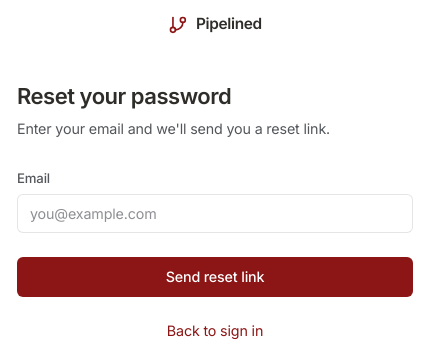
Test case: ForgotPassword › should show success message after submitting a valid email
Type "user@example.com" into the field labelled "Email".
click(215, 214); type("user@example.com")  # box [17,194,413,233]
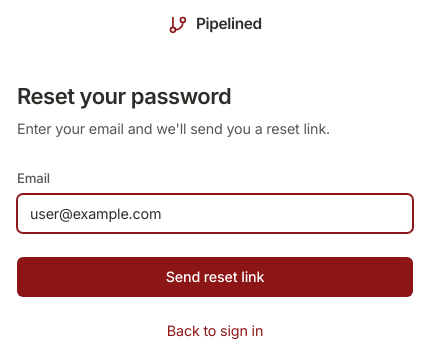
Click the button "Send reset link".
click(215, 277)  # box [17,257,413,297]
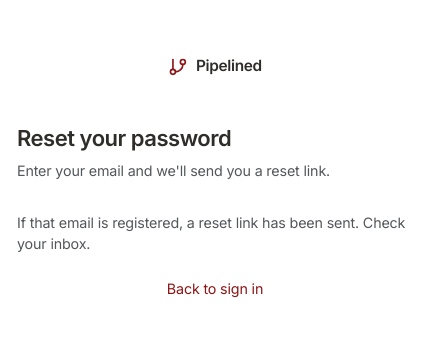
Now the message shows "reset link has been sent", box [17,214,405,252]
